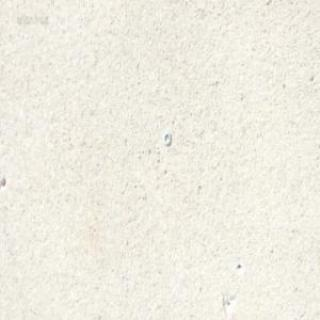Washertrack_idkeyframe: (162, 130, 170, 144)
